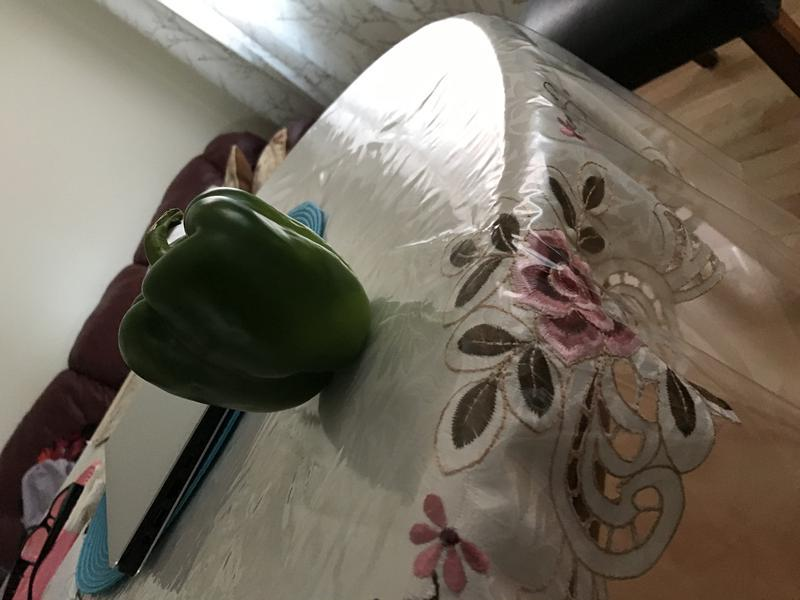green_pepper: (105, 181, 378, 427)
